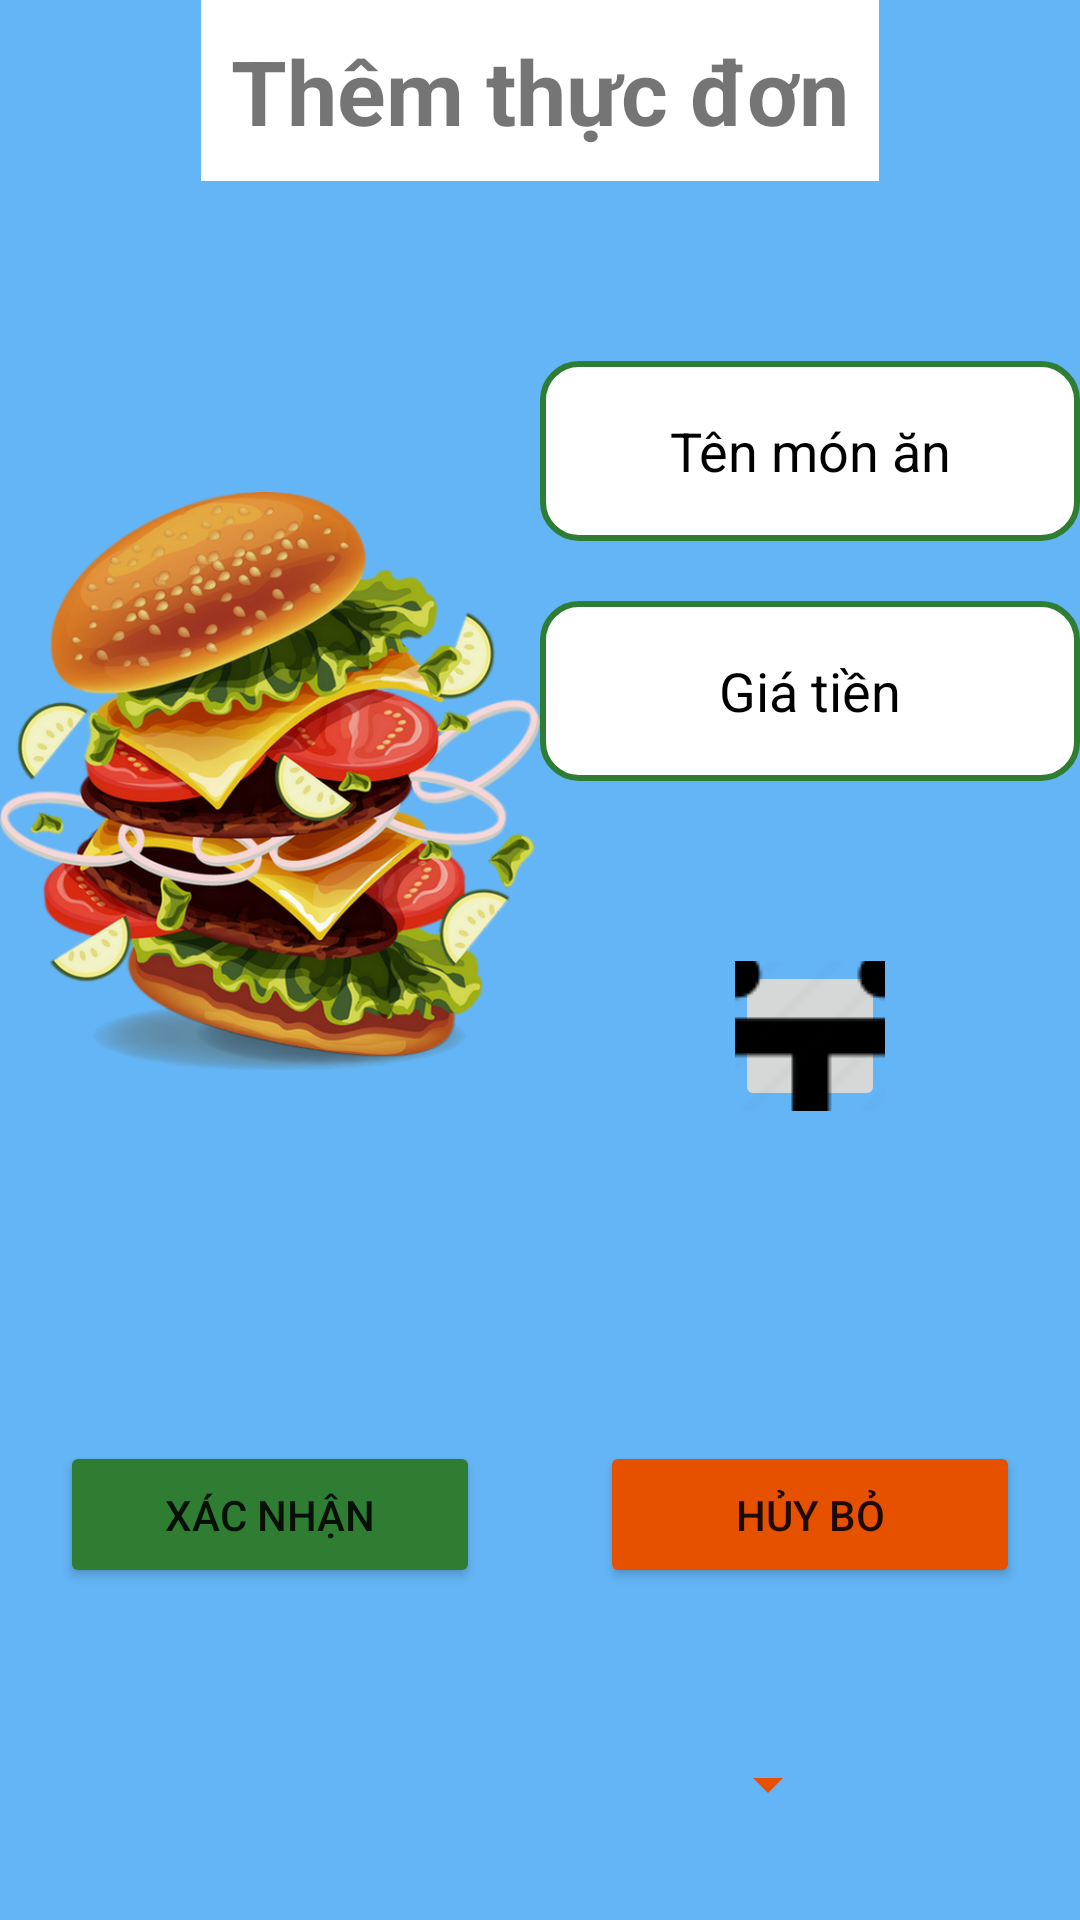

Point at icon controls on the screen. Image size 1080 × 1920, points as (x,y).
addtable: (810,1036)
